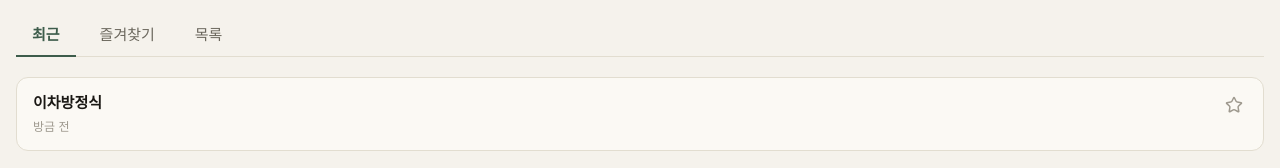
Test case: NotesPage › 길게 누르기(pointerdown 500ms) → 다중 선택 모드 진입
This screenshot has width=1280, height=168.
Press the mouse on the button with test id "note-card" at (68,102), box [16, 76, 1264, 151]
Wait 500 ms
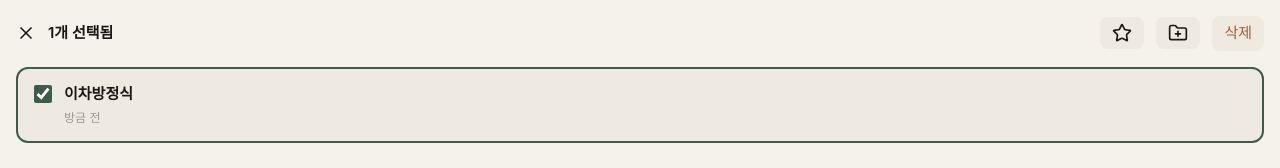
Expected: the element with test id "select-bar" is shown, [16, 16, 1264, 50]
Expected: the checkbox with test id "note-select-checkbox" is shown, [34, 84, 52, 102]
